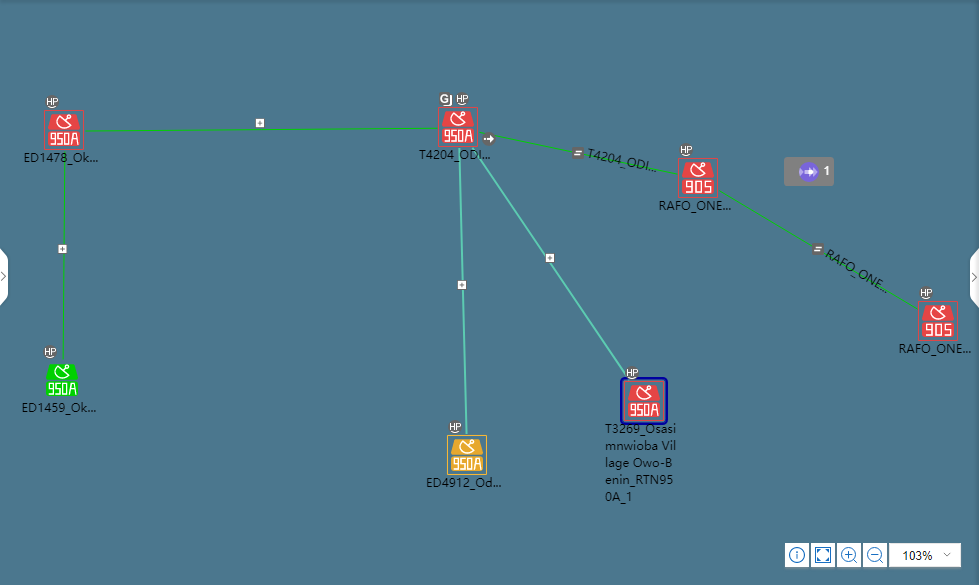Link_Blue: (474, 149, 632, 380), (456, 150, 473, 433)
Link_Green: (719, 192, 916, 309), (480, 130, 681, 175), (83, 124, 436, 132), (58, 155, 67, 360)
RTN_Green: (46, 363, 81, 398)
RTN_Orange: (450, 436, 483, 478)
RTN_Red: (437, 112, 479, 147), (921, 302, 955, 343), (627, 387, 661, 423), (682, 161, 717, 195), (46, 112, 81, 146)
RTN_Yellow: (450, 436, 483, 478)
